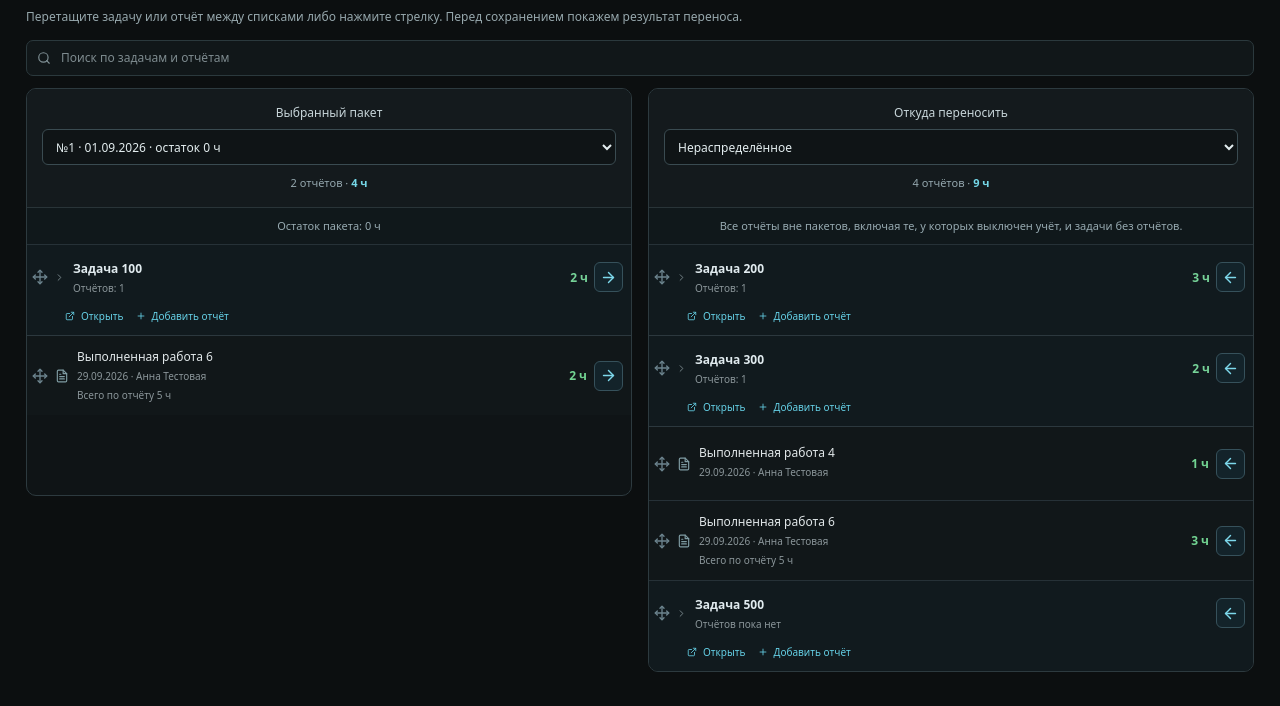
Scenario: two-list allocation workspace › moves task binding even for a task without reports and keeps it nonbillable
The width and height of the screenshot is (1280, 706).
(page scrolled)
Click the button named "Перенести задачу: Задача 500 в выбранный пакет" at coordinates (1230, 613), box x1=1216 y1=598 x2=1245 y2=628
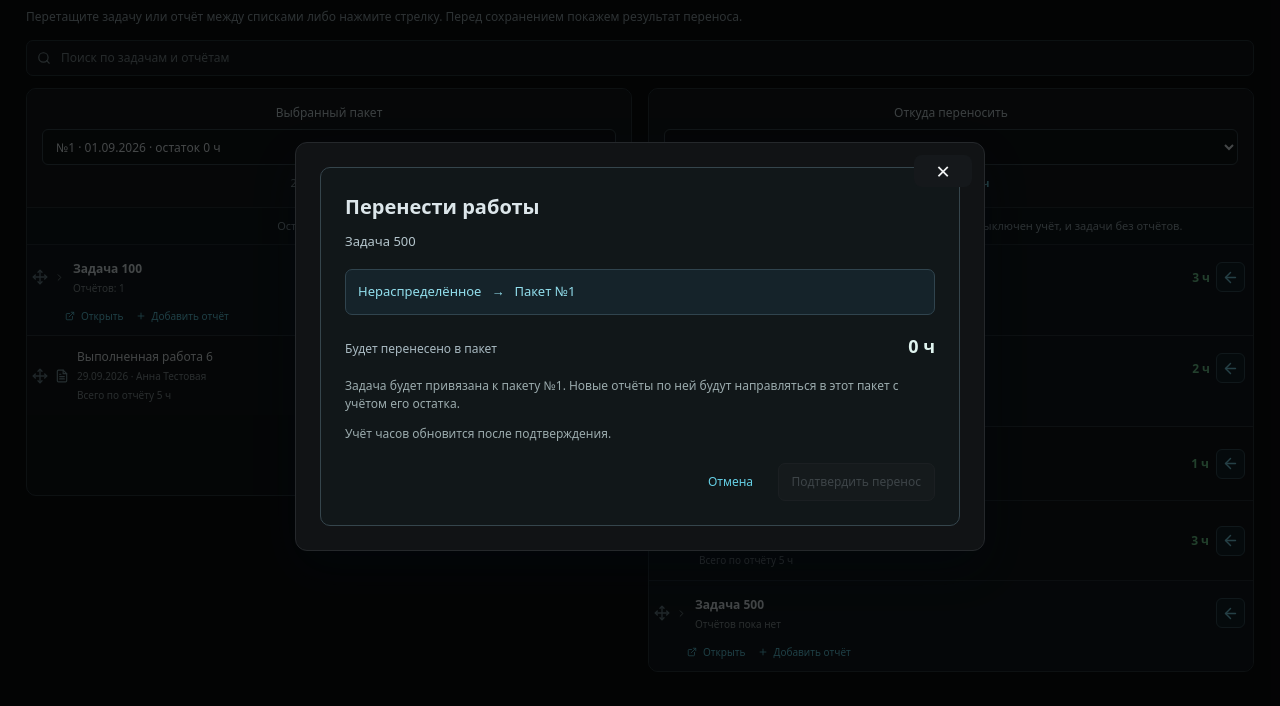
Expected: the text "Задача будет привязана к пакету №1" is shown, x1=345 y1=376 x2=899 y2=412
